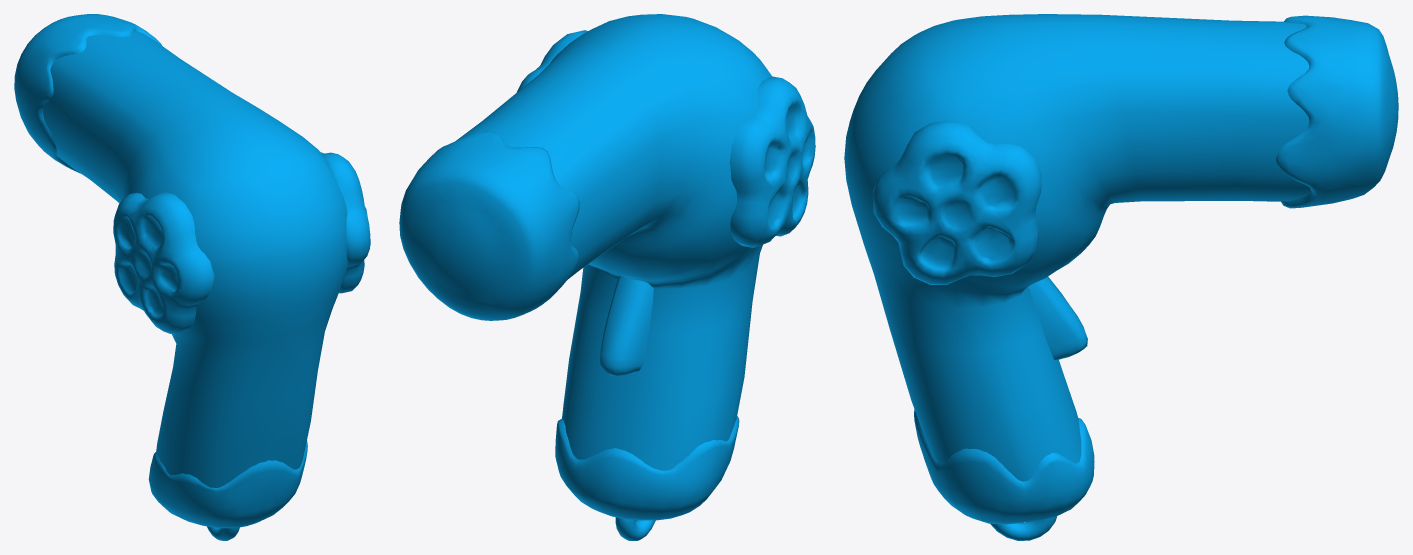
The model's file is hairdryer.glb.
3 views of the same model, side by side, from view 1: azimuth 30°, elevation 25°; view 2: azimuth 150°, elevation 25°; view 3: azimuth 270°, elevation 25° (orthographic). The views are drawn at different scales.
Visible parts, largest first — view 1: node_id36; view 2: node_id36; view 3: node_id36.
Part boxes in pixels (bbox=[...]): node_id36: bbox=[14, 14, 370, 540]; node_id36: bbox=[399, 14, 815, 540]; node_id36: bbox=[844, 14, 1398, 540].
Bounding box in the file's own units: 0.2674 × 0.512 × 0.4979.
1 material, 1 textured.
